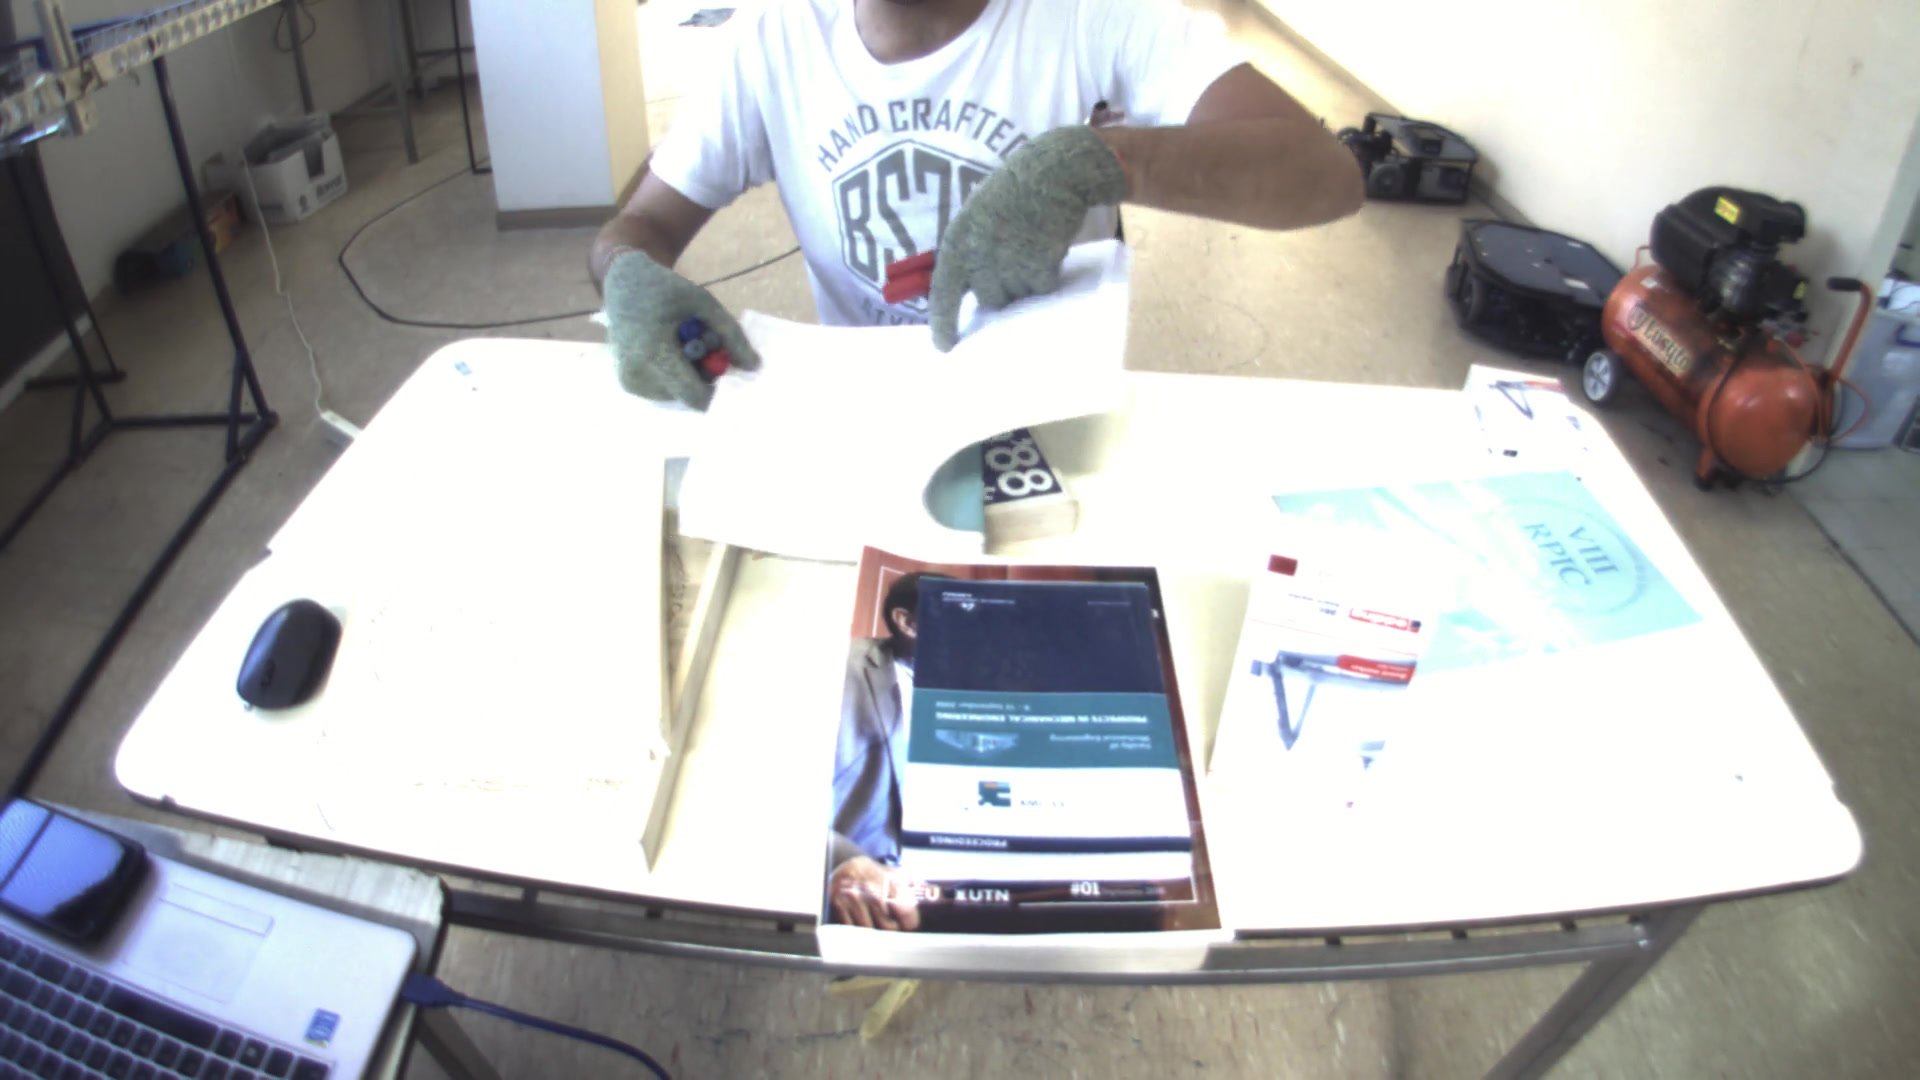hand: (918, 120, 1129, 357), (582, 243, 761, 410)
